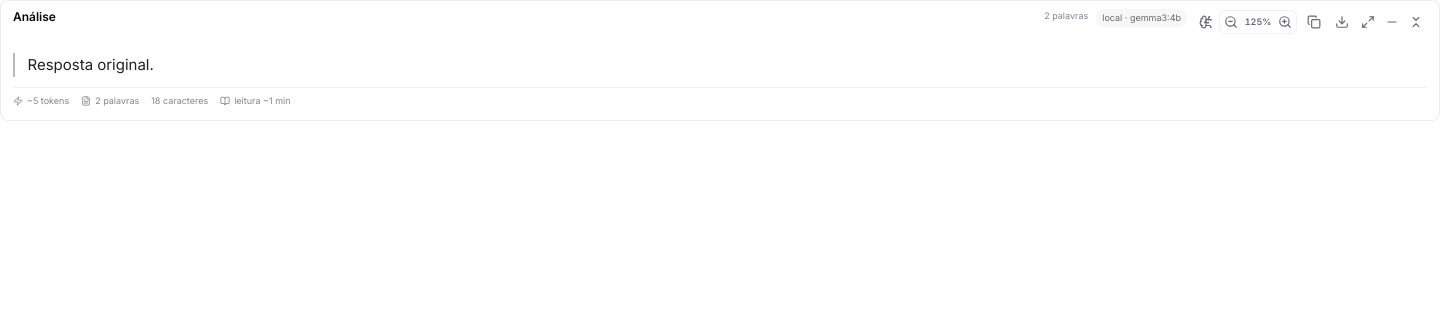
AIOutputCard — IA analisa IA › resultado da análise aparece em card aninhado (sem botão de análise próprio)
This screenshot has width=1440, height=320.
Click the button named "Analisar esta resposta com IA".
click(1206, 22)  # box [1195,11,1217,33]
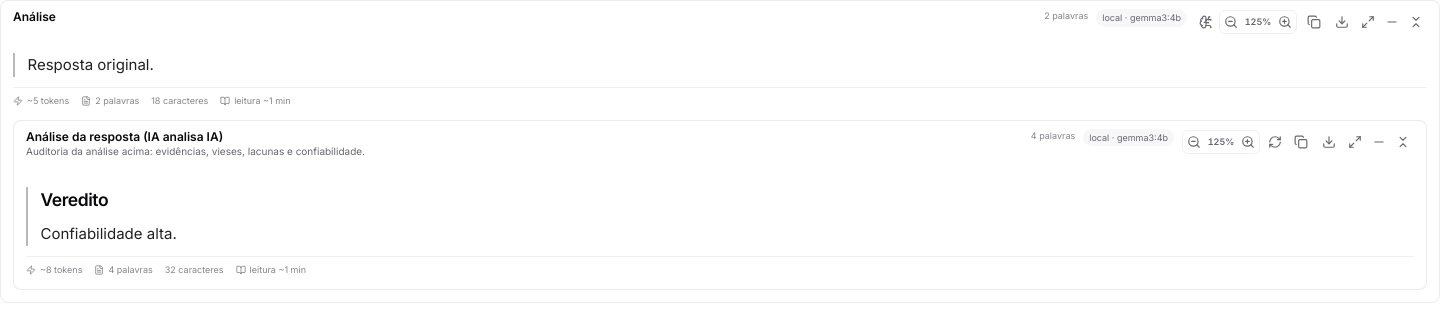
expect the number of buttons named "Analisar esta resposta com IA" is 1: met, box [1195,11,1217,33]
expect the text "Confiabilidade alta." is shown: met, box [40,224,177,243]
